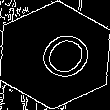O_SW: (19, 22, 91, 88)
